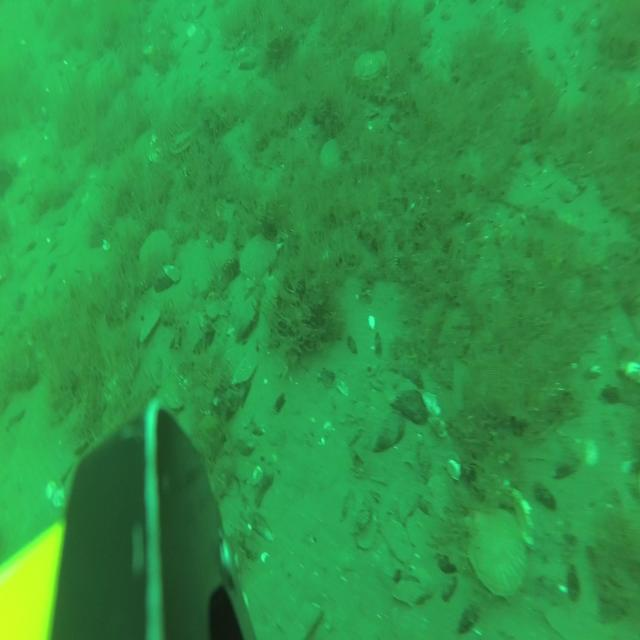scallop: (466, 501, 528, 598), (238, 232, 278, 288), (137, 226, 176, 281), (131, 129, 166, 170), (354, 47, 388, 85), (167, 123, 200, 158), (317, 134, 344, 171)
